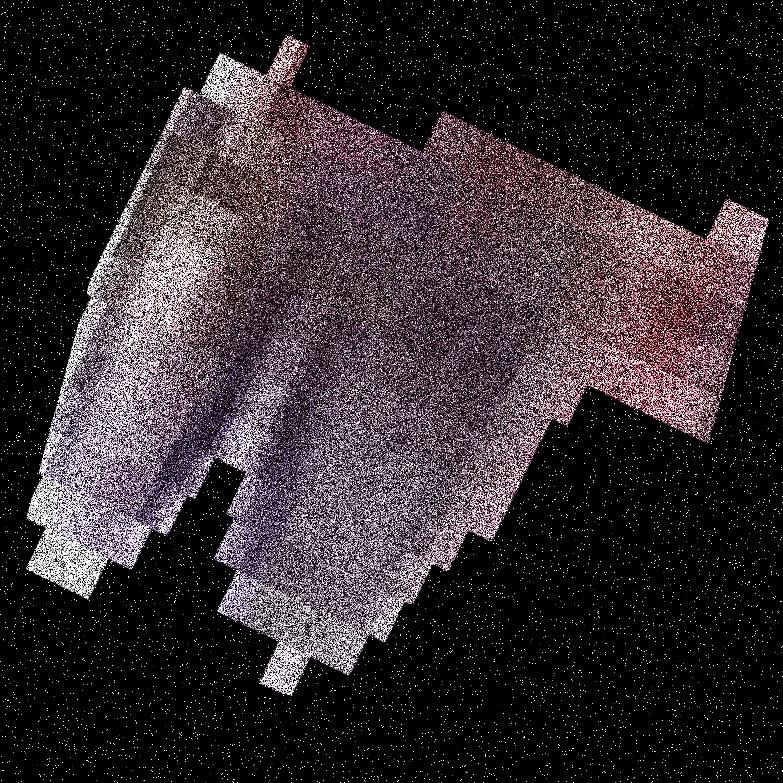Oculos: (237, 0, 585, 782)
